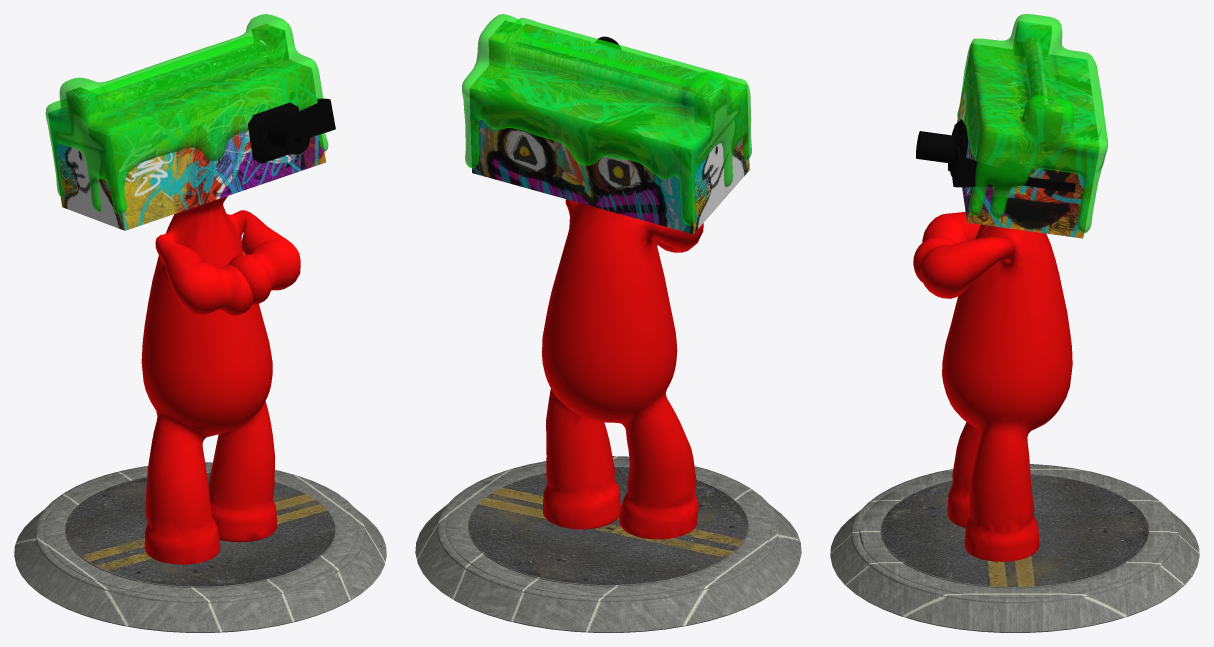
3 views of the same model, side by side, from view 1: azimuth 30°, elevation 25°; view 2: azimuth 150°, elevation 25°; view 3: azimuth 270°, elevation 25° (orthographic). The views are drawn at different scales.
Bounding box in the file's own units: 1.45 × 2.16 × 1.45.
6 materials, 3 textured.
